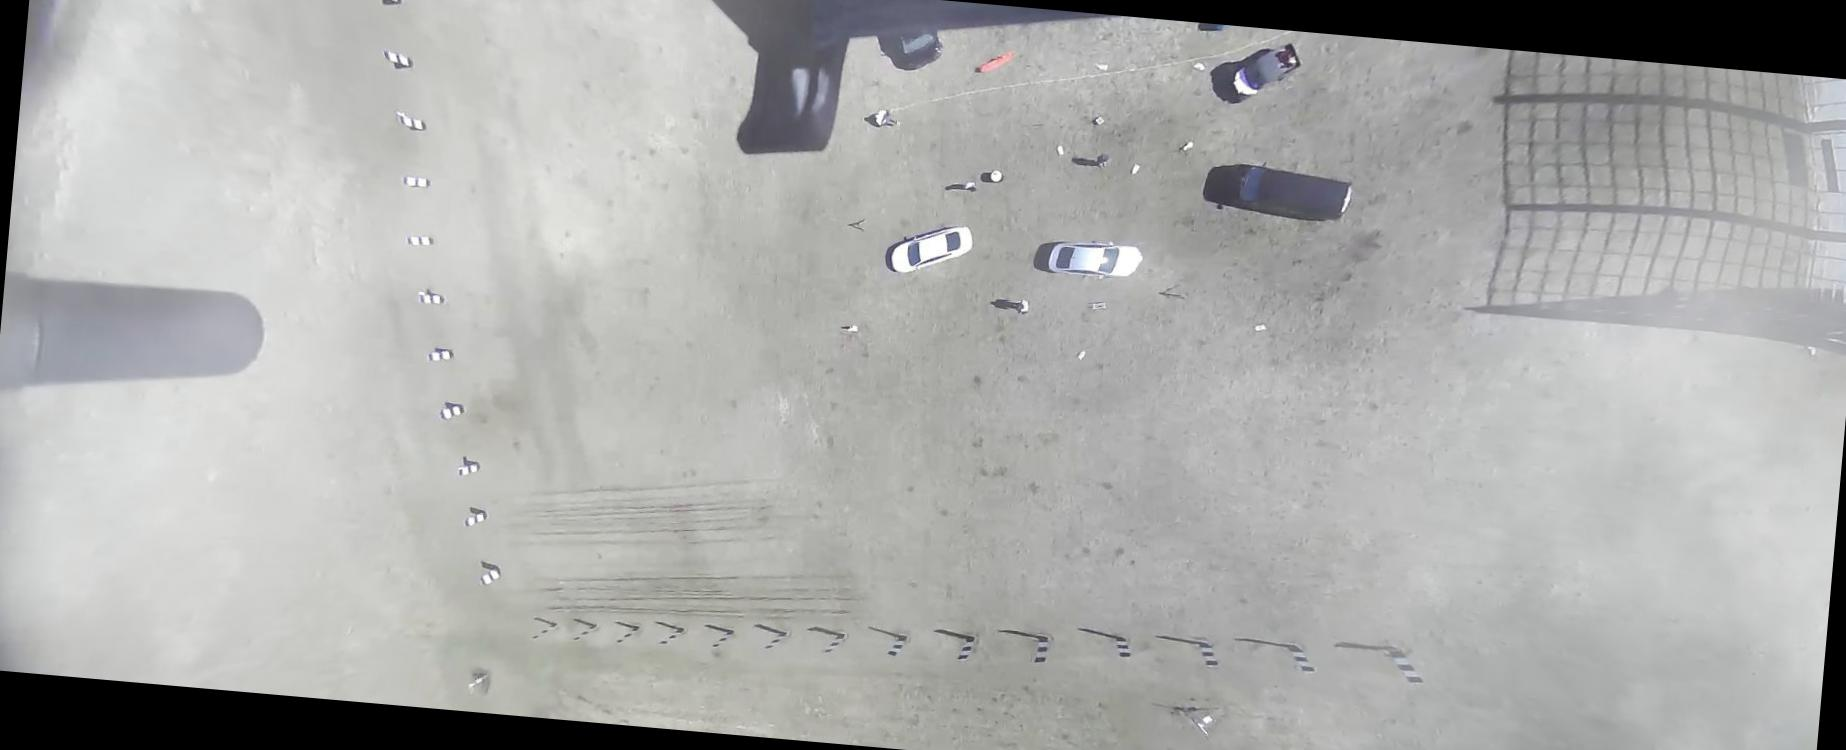vehicle: (1210, 157, 1356, 224), (1224, 36, 1302, 106), (890, 219, 975, 279), (1047, 234, 1146, 283), (890, 25, 945, 73)
